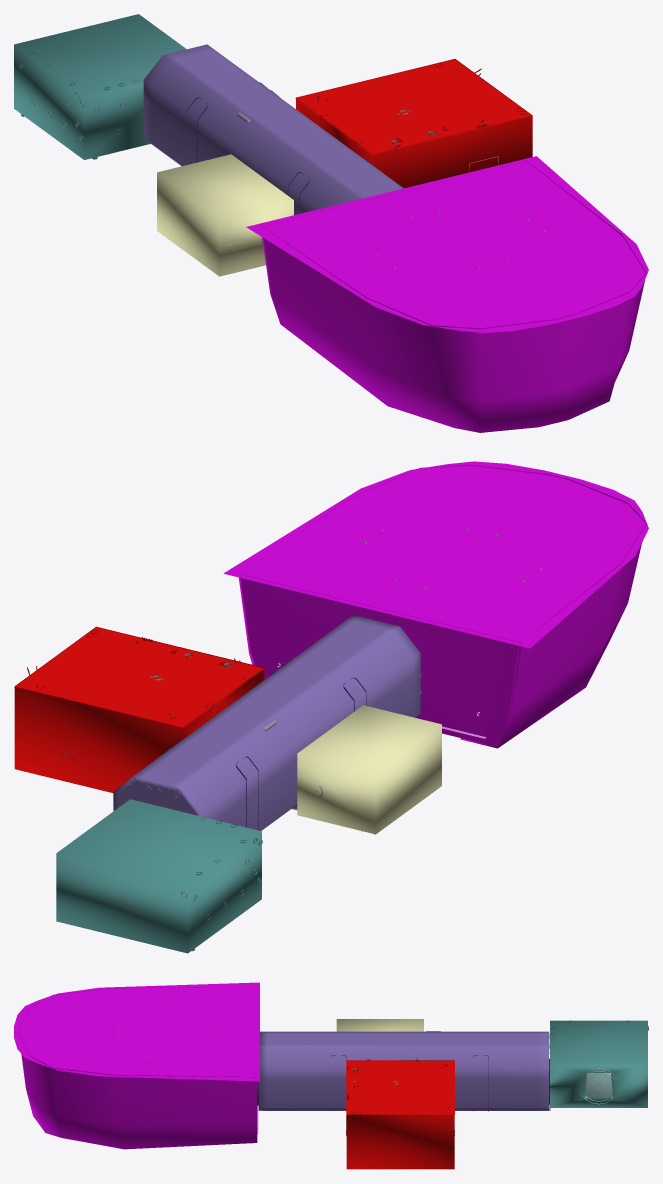
The model's file is SubmarinoInter 1.fbx.
3 views of the same model, one above another, from view 1: azimuth 30°, elevation 25°; view 2: azimuth 150°, elevation 25°; view 3: azimuth 270°, elevation 25° (orthographic). The views are drawn at different scales.
Visible parts, largest first — view 1: Estrutura_Salac, PareTeto_Corredor, Estrutura_Equip, CTREDE_Quarto, CTREDE_Banheiro; view 2: Estrutura_Salac, PareTeto_Corredor, Estrutura_Equip, CTREDE_Quarto, CTREDE_Banheiro; view 3: Estrutura_Salac, PareTeto_Corredor, Estrutura_Equip, CTREDE_Quarto, CTREDE_Banheiro, Janela.
Boxes of the visible parts, box(x1,y1,x2,y2) form: Estrutura_Salac: box(246, 156, 648, 432); PareTeto_Corredor: box(143, 44, 403, 215); Estrutura_Equip: box(295, 59, 532, 188); CTREDE_Quarto: box(14, 14, 186, 159); CTREDE_Banheiro: box(157, 154, 293, 276); Estrutura_Salac: box(223, 461, 648, 748); PareTeto_Corredor: box(113, 615, 420, 830); Estrutura_Equip: box(14, 626, 264, 792); CTREDE_Quarto: box(56, 799, 261, 953); CTREDE_Banheiro: box(297, 705, 441, 834); Estrutura_Salac: box(14, 982, 259, 1149); PareTeto_Corredor: box(258, 1031, 548, 1110); Estrutura_Equip: box(346, 1060, 454, 1169); CTREDE_Quarto: box(550, 1020, 647, 1107); CTREDE_Banheiro: box(336, 1019, 423, 1031); Janela: box(579, 1068, 618, 1104).
Bounding box in the file's own units: 273 × 87.92 × 603.
